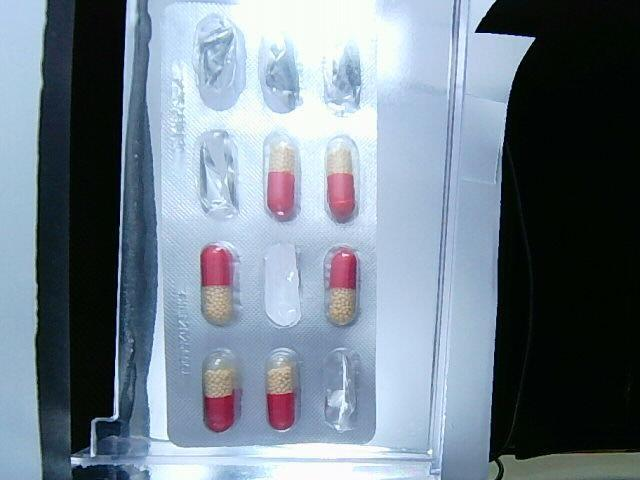Light Front: (161, 0, 378, 447)
No Pill Front: (193, 14, 245, 110), (259, 29, 302, 114), (200, 130, 238, 217), (265, 244, 301, 327), (323, 37, 361, 115), (324, 348, 356, 432)
Pill Front: (264, 131, 299, 221), (203, 349, 239, 432), (325, 135, 358, 223), (324, 246, 359, 325), (266, 348, 298, 431), (201, 245, 232, 325)
